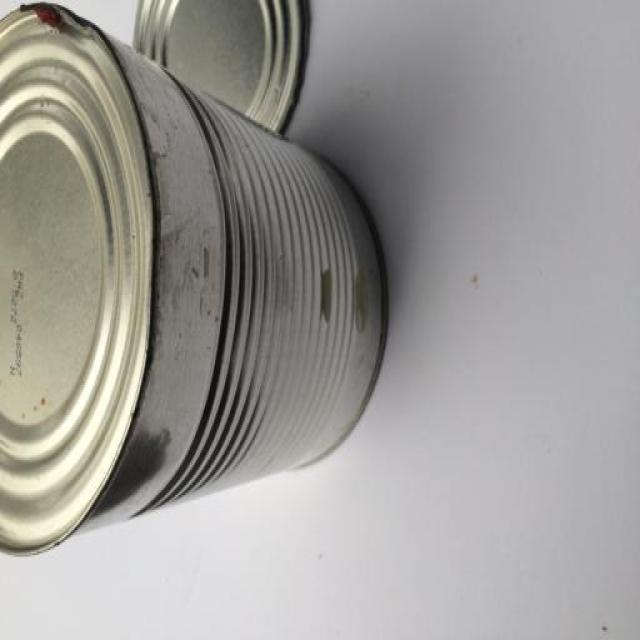metel: (7, 16, 367, 501)
